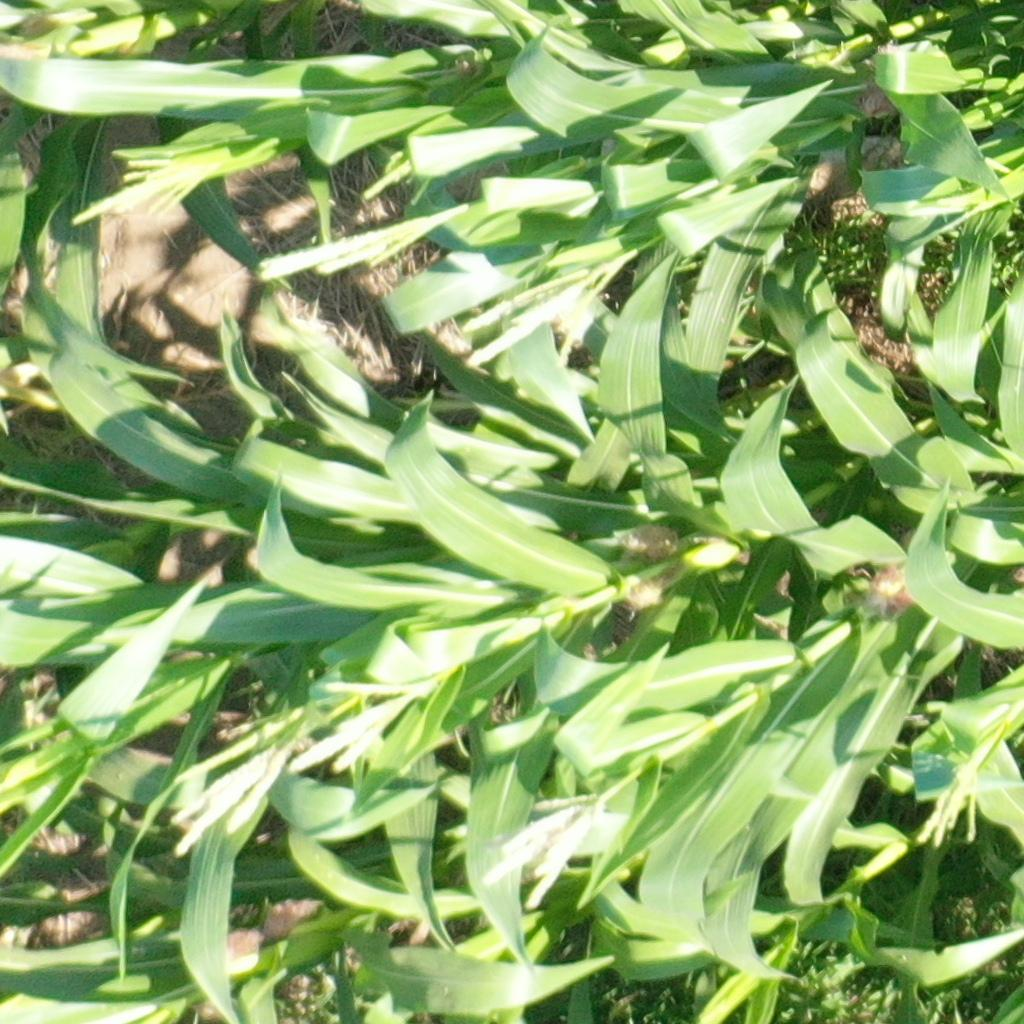Tassel: (456, 246, 637, 374), (164, 713, 312, 859), (478, 781, 626, 916), (282, 670, 430, 779), (255, 205, 454, 280), (61, 145, 214, 234), (911, 738, 982, 844), (366, 152, 415, 202)
